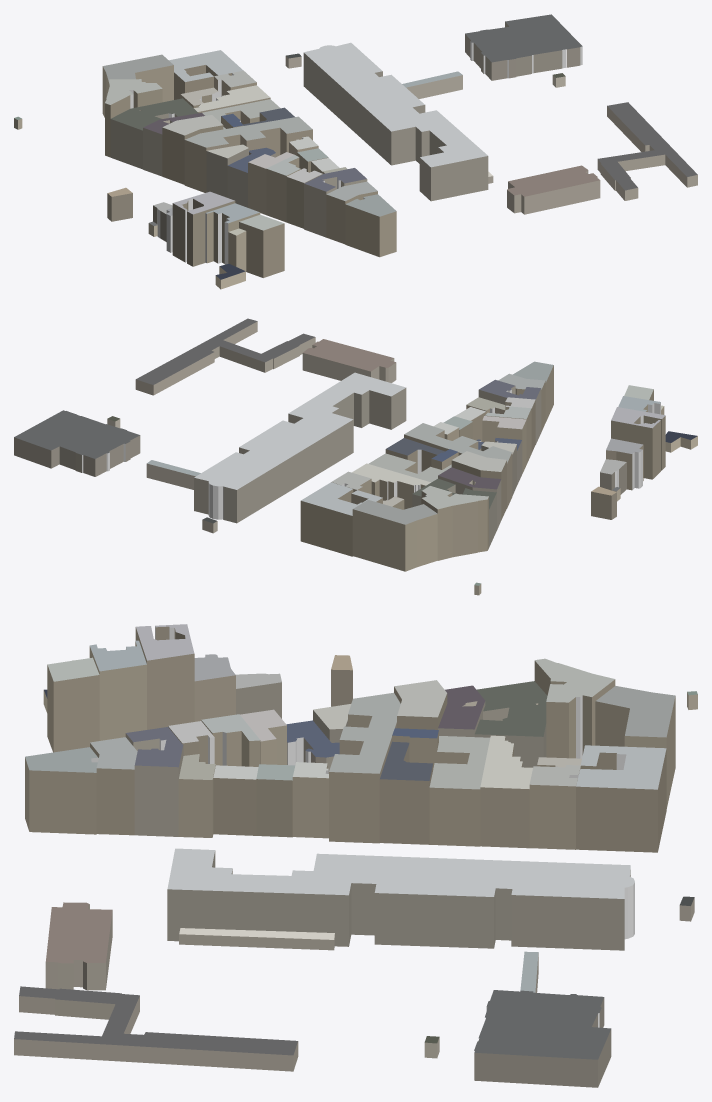
3 views of the same model, one above another, from view 1: azimuth 30°, elevation 25°; view 2: azimuth 150°, elevation 25°; view 3: azimuth 270°, elevation 25° (orthographic). The views are drawn at different scales.
Visible parts, largest first — view 1: tuile; view 2: tuile; view 3: tuile.
Part boxes in pixels (x1,y1,x2,y2): tuile: (14,14,697,289); tuile: (14,318,697,595); tuile: (14,624,697,1087).
Size of the model in its own units: 276 by 32.98 by 205.
